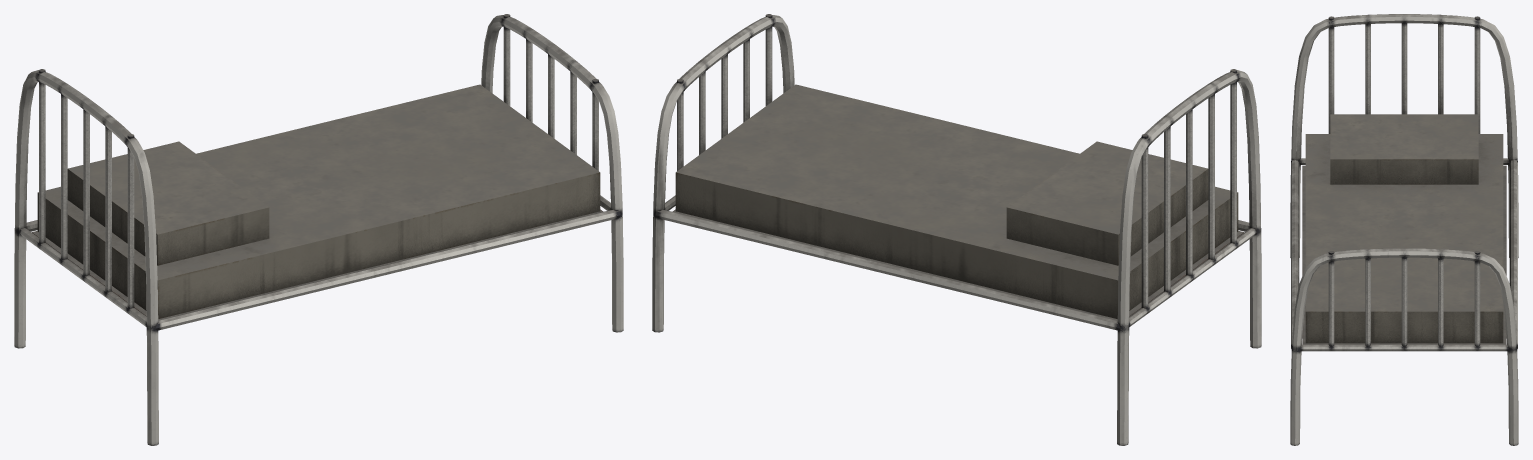
File: SM_KindergartenBed_Metal.fbx
The picture shows the model from 3 angles, left to right: view 1: azimuth 30°, elevation 25°; view 2: azimuth 150°, elevation 25°; view 3: azimuth 270°, elevation 25°; orthographic projection. The views are drawn at different scales.
Visible parts, largest first — view 1: SM_KindergartenBed_Metal; view 2: SM_KindergartenBed_Metal; view 3: SM_KindergartenBed_Metal.
Boxes of the visible parts, left/top/right/bottom form: SM_KindergartenBed_Metal: left=14, top=14, right=623, bottom=445; SM_KindergartenBed_Metal: left=652, top=14, right=1261, bottom=445; SM_KindergartenBed_Metal: left=1290, top=14, right=1518, bottom=445.
Bounding box in the file's own units: 1.28 × 0.7609 × 0.648.
Materials: 1 (1 with a texture image).
